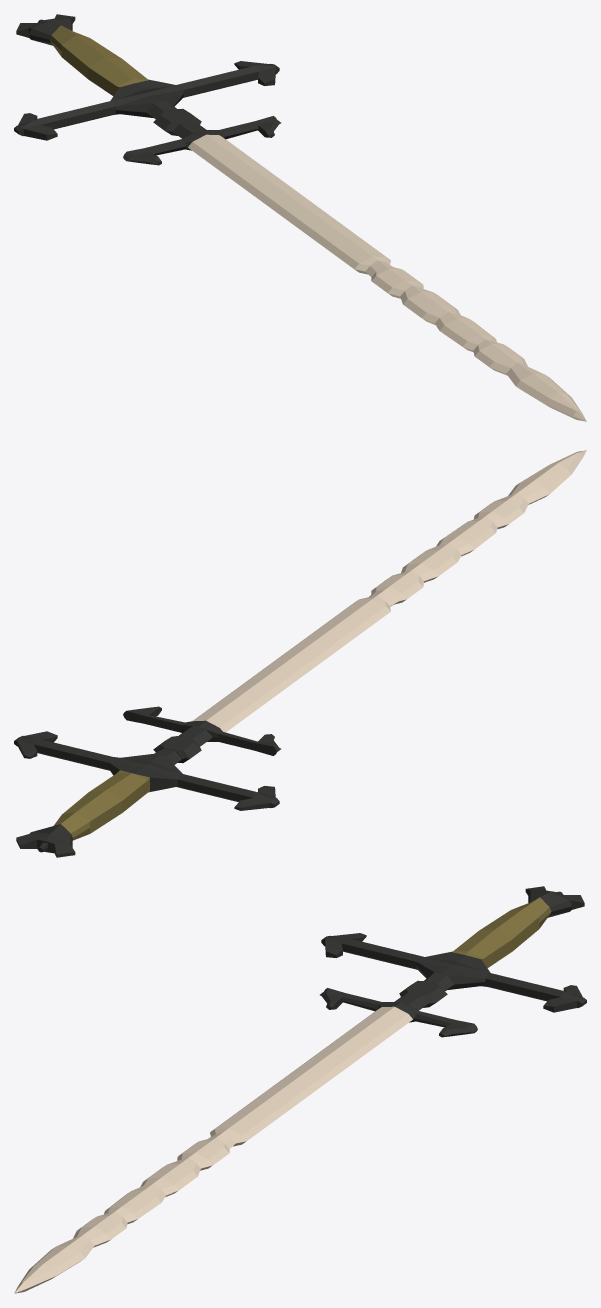
File: Sword_Basic.fbx
3 views of the same model, one above another, from view 1: azimuth 30°, elevation 25°; view 2: azimuth 150°, elevation 25°; view 3: azimuth 330°, elevation 25° (orthographic).
Parts seen in each view (by area): view 1: Sword.Unity.003; view 2: Sword.Unity.003; view 3: Sword.Unity.003.
Part boxes in pixels (x1,y1,x2,y2): Sword.Unity.003: (14,14,586,421); Sword.Unity.003: (14,450,586,857); Sword.Unity.003: (14,886,586,1293).
Size of the model in its own units: 24.69 by 2.19 by 90.
